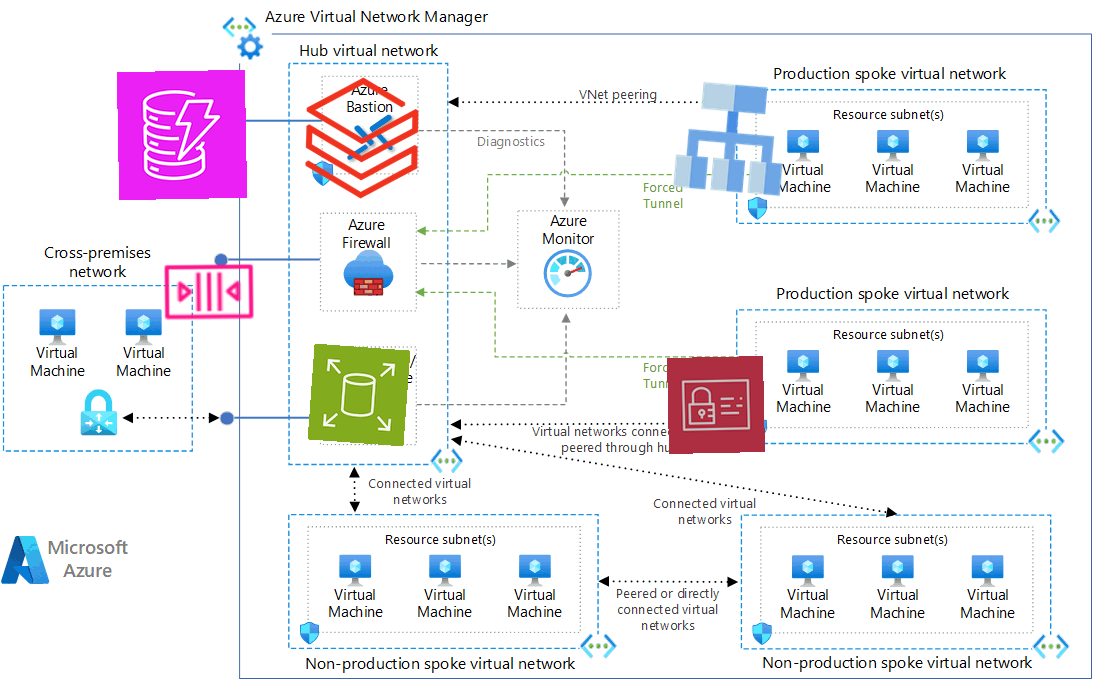aws_amazon_dynamodb: (116, 69, 248, 201)
aws_amazon_elastic_block_store: (307, 343, 411, 447)
aws_identity_and_access_management: (666, 355, 766, 455)
aws_simple_queue_service_queue: (160, 242, 258, 340)
azure_databricks: (296, 72, 428, 204)
gcp_cloud_load_balancing: (661, 68, 801, 208)
